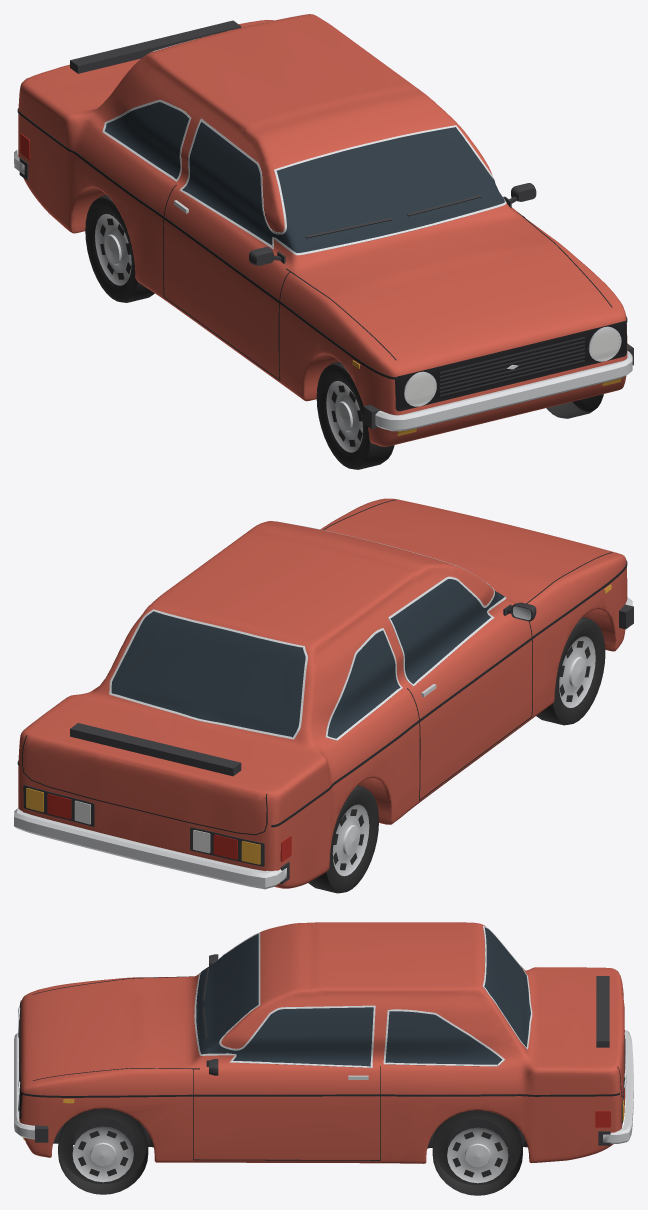
The model's file is escort.glb.
3 views of the same model, one above another, from view 1: azimuth 30°, elevation 25°; view 2: azimuth 150°, elevation 25°; view 3: azimuth 270°, elevation 25° (orthographic). The views are drawn at different scales.
Parts seen in each view (by area): view 1: paint, glass, trim, wheel_fr, wheel_rr, headlights, mirrors, wheel_fl; view 2: paint, glass, trim, wheel_fr, wheel_rr, taillights, reverse_lights; view 3: paint, glass, trim, wheel_fl, wheel_rl.
Boxes of the visible parts, x1,y1,x2,y2 form: paint: [18, 14, 627, 446]; glass: [105, 102, 504, 252]; trim: [14, 14, 633, 431]; wheel_fr: [316, 361, 394, 469]; wheel_rr: [85, 195, 154, 302]; headlights: [407, 329, 619, 404]; mirrors: [249, 183, 536, 265]; wheel_fl: [546, 394, 603, 418]; paint: [18, 498, 627, 888]; glass: [111, 579, 504, 738]; trim: [14, 499, 633, 889]; wheel_fr: [536, 617, 605, 725]; wheel_rr: [308, 785, 378, 893]; taillights: [47, 793, 291, 861]; reverse_lights: [74, 800, 210, 853]; paint: [19, 922, 624, 1163]; glass: [196, 927, 530, 1066]; trim: [14, 926, 633, 1160]; wheel_fl: [58, 1108, 148, 1194]; wheel_rl: [432, 1110, 522, 1195].
Size of the model in its own units: 1.72 by 1.39 by 3.98.
